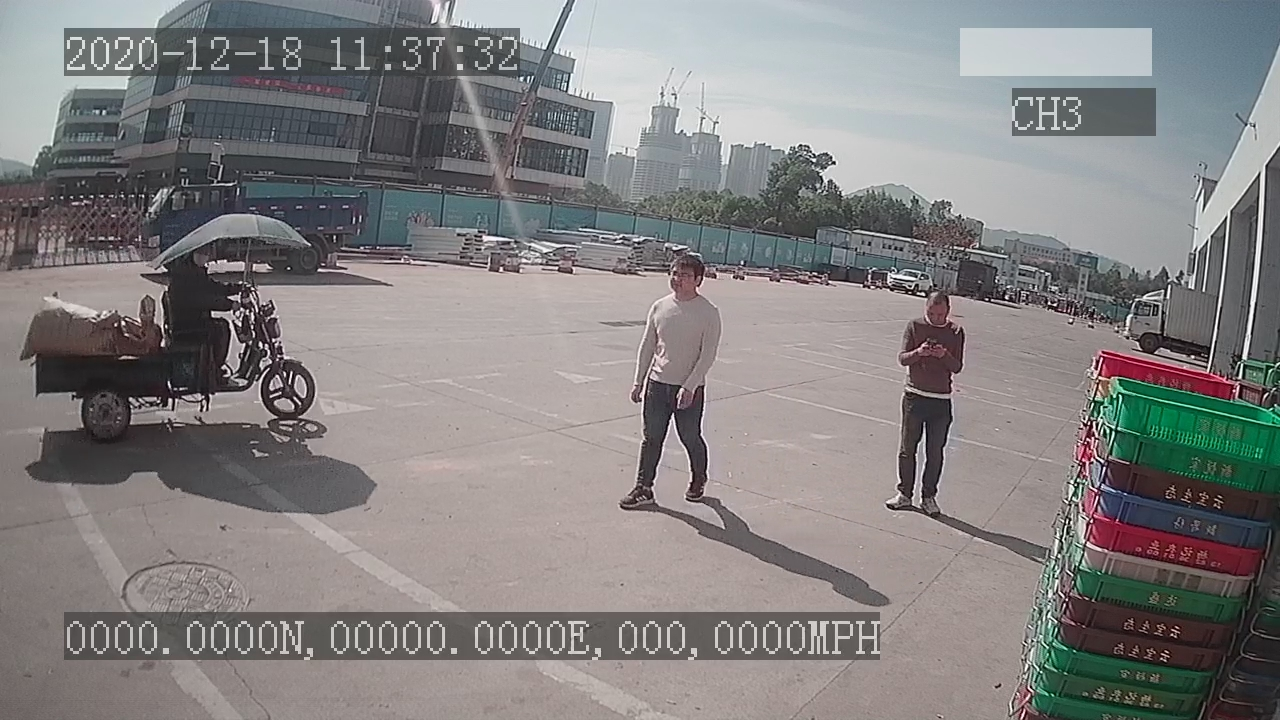person: (618, 243, 730, 518), (885, 287, 966, 519)
